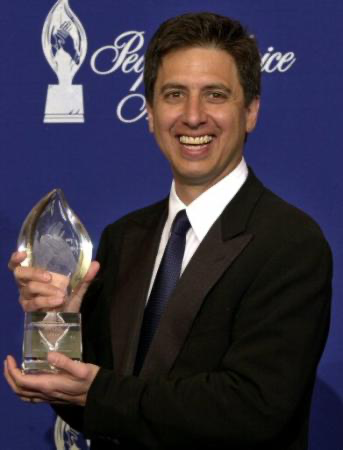Face: (152, 66, 245, 180)
